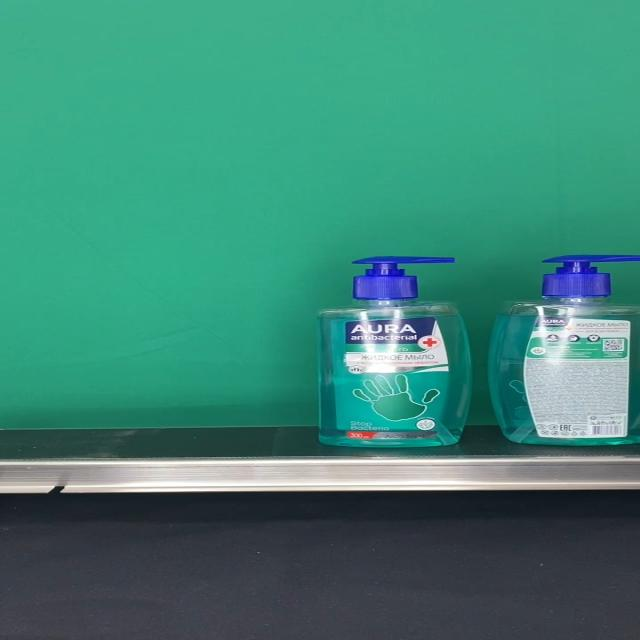Bottle: (317, 256, 471, 448), (487, 255, 640, 446)
Cap: (351, 256, 456, 300), (541, 255, 640, 298)
